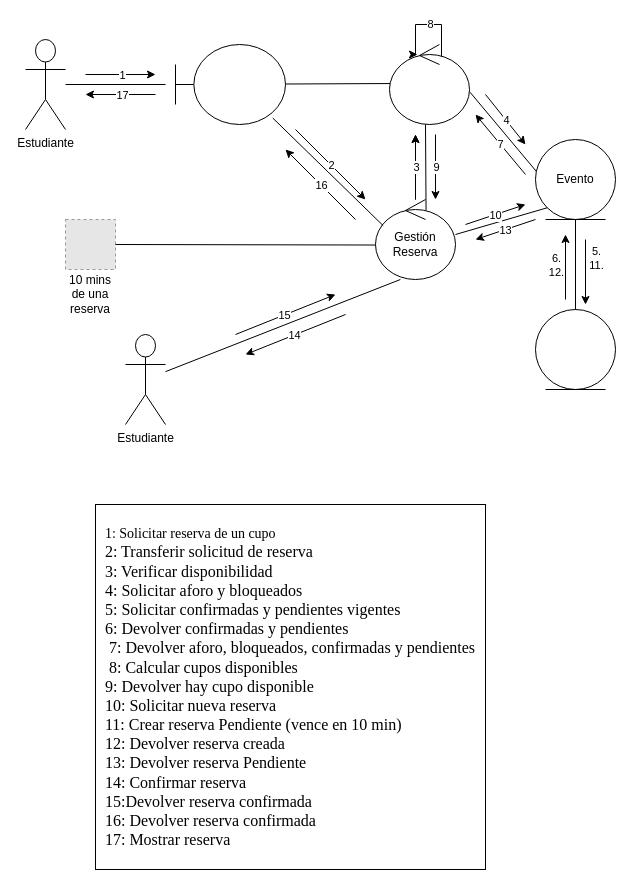
The diagram is 633 pixels wide and 887 high, and some of its shapes have lost their labels. Grey dashed boxes stand in for pictures. The centre of each missing label's shape, as x and y in pixels:
"CalculoDisp Cupos" goes at pixel 429 84.
"PantallaEvento" goes at pixel 230 84.
"Reserva" goes at pixel 575 349.
